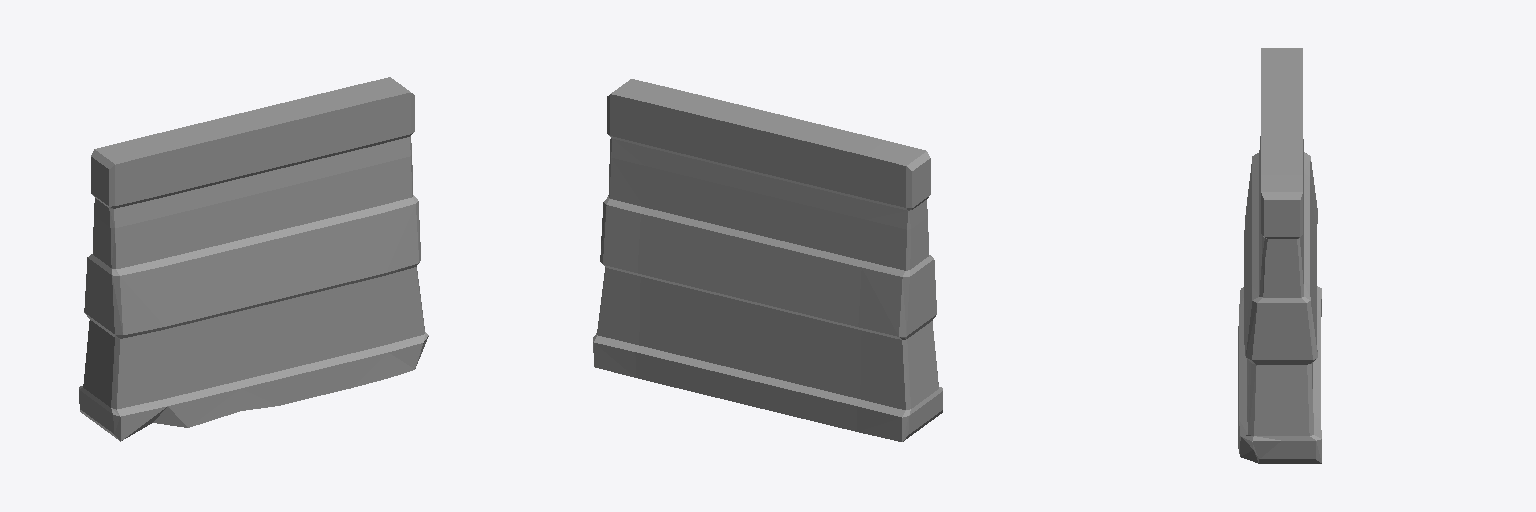
The model's file is Barrier.OBJ.
3 renders of one model, left to right at view 1: azimuth 30°, elevation 25°; view 2: azimuth 150°, elevation 25°; view 3: azimuth 270°, elevation 25°, orthographic.
Parts seen in each view (by area): view 1: Mesh_ZBrush_defualt_group; view 2: Mesh_ZBrush_defualt_group; view 3: Mesh_ZBrush_defualt_group.
Part boxes in pixels (x1,y1,x2,y2): Mesh_ZBrush_defualt_group: (79, 77, 428, 441); Mesh_ZBrush_defualt_group: (593, 79, 942, 441); Mesh_ZBrush_defualt_group: (1238, 48, 1321, 463).
Size of the model in its own units: 10.03 by 8.14 by 2.31.